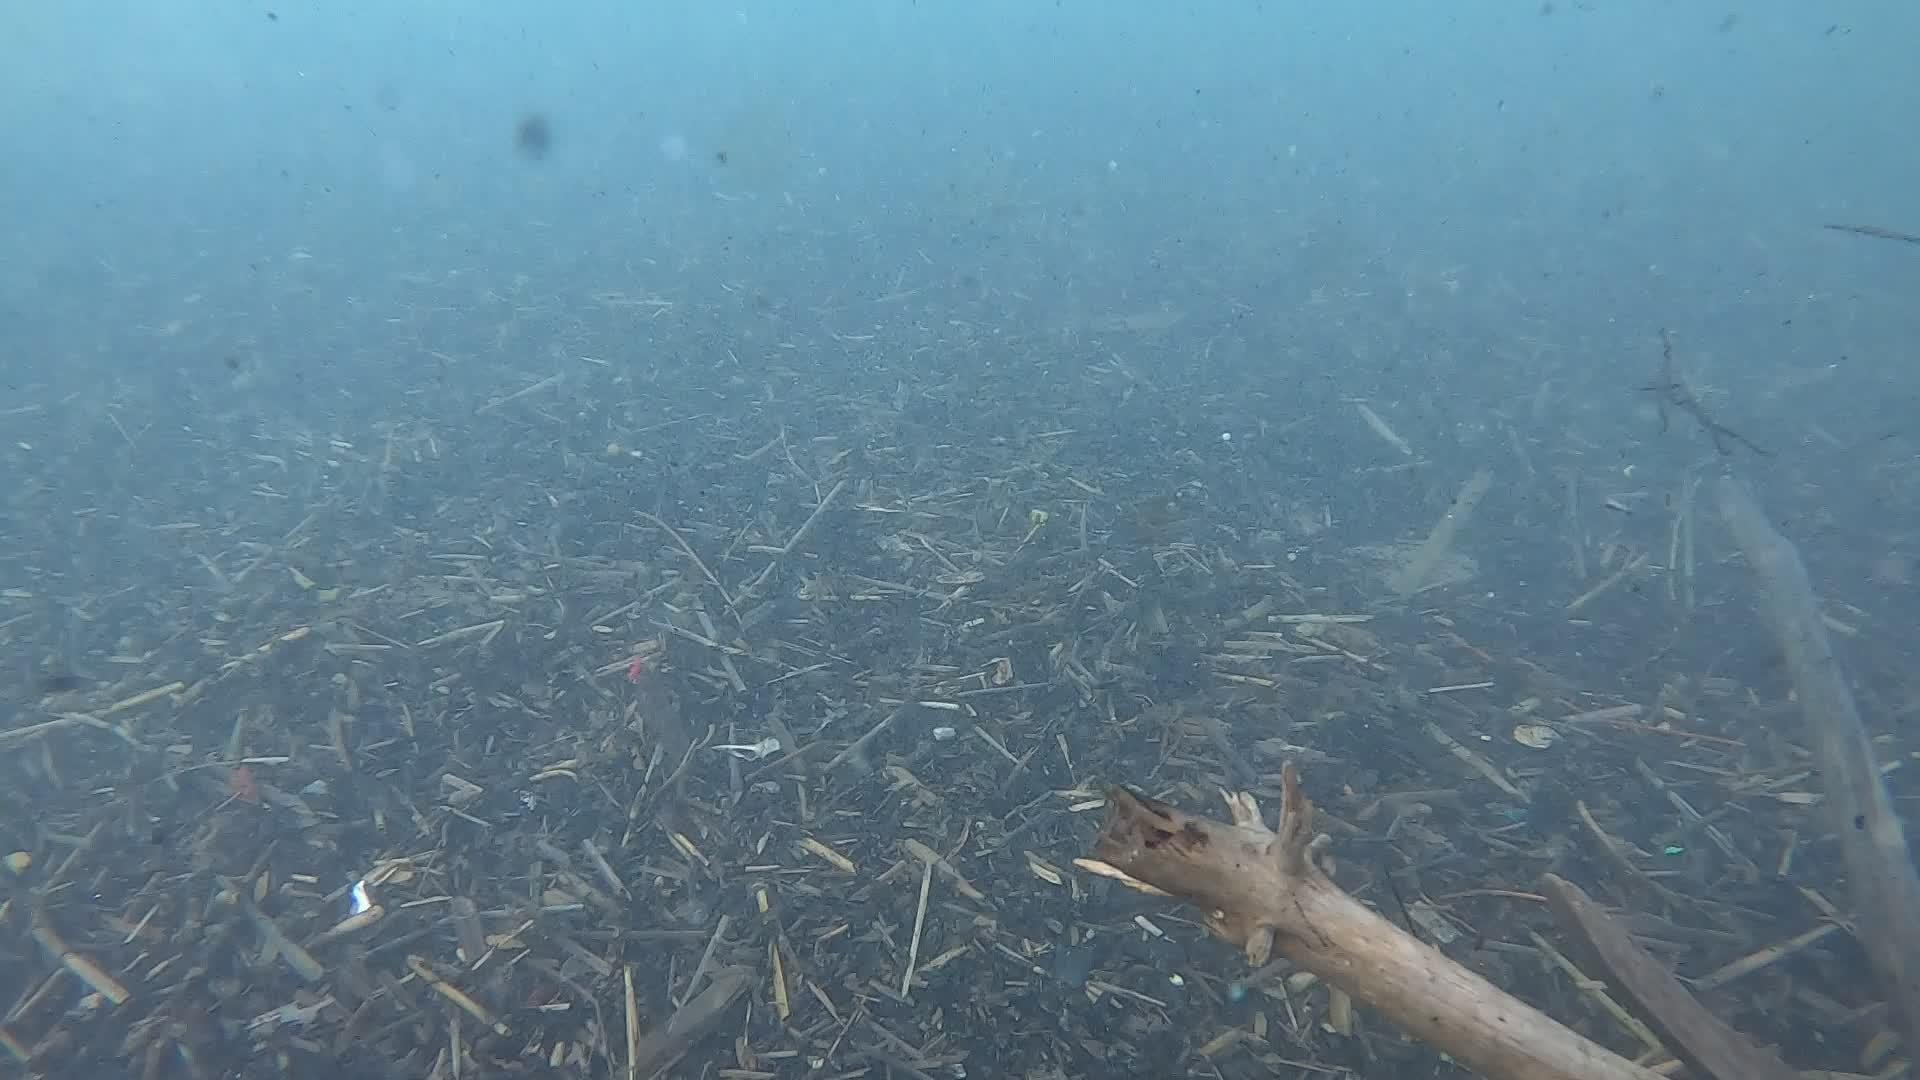wood: (1116, 791, 1652, 1080), (1713, 483, 1920, 980), (1542, 869, 1797, 1080)
